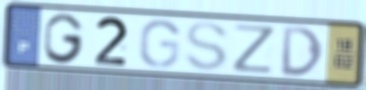2: (94, 15, 130, 68)
D: (280, 24, 325, 78)
G: (42, 11, 87, 65), (136, 18, 182, 70)
S: (183, 20, 231, 74)
Z: (230, 22, 278, 76)
